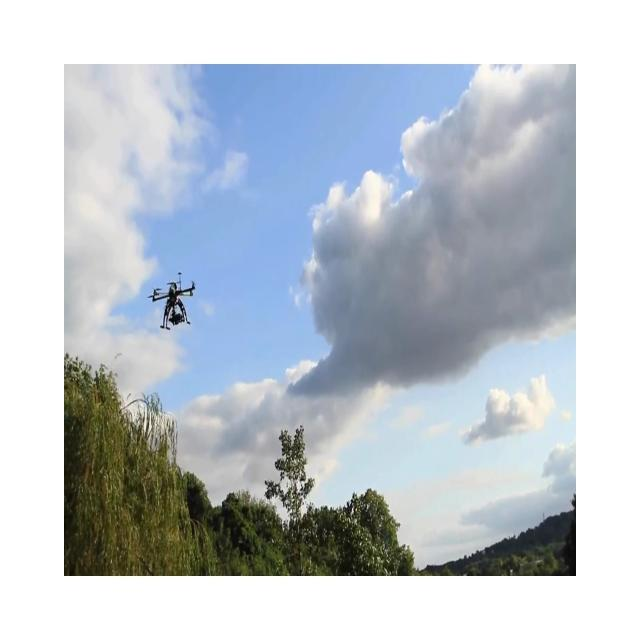drone: (147, 271, 196, 330)
